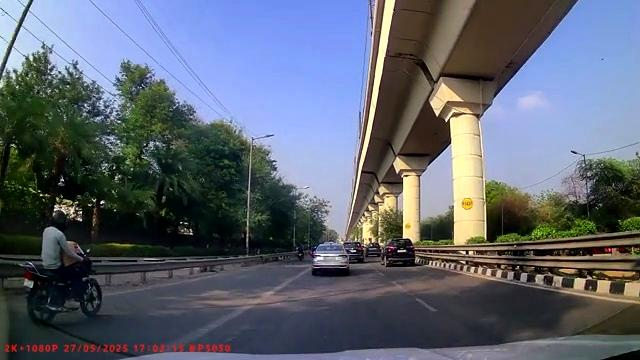motorcycle_with_helmet: (19, 208, 103, 326)
